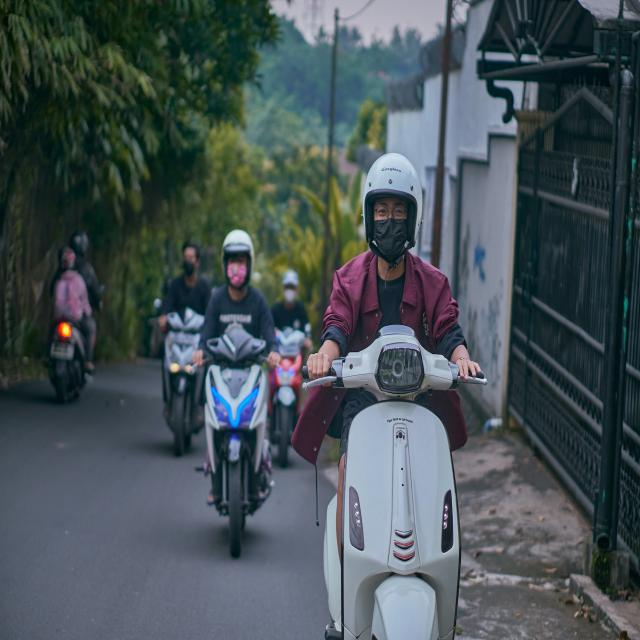With Helmet: (296, 146, 495, 640), (193, 214, 280, 568), (43, 226, 108, 421), (156, 225, 208, 468)
